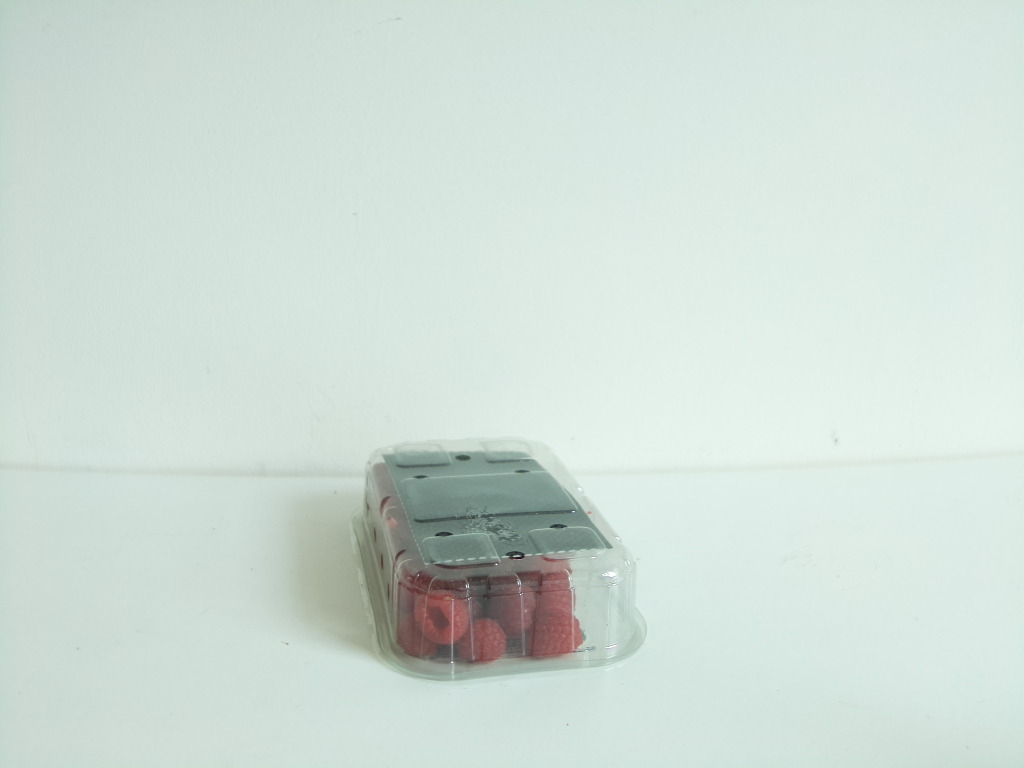soft-fruit: (349, 435, 649, 684)
